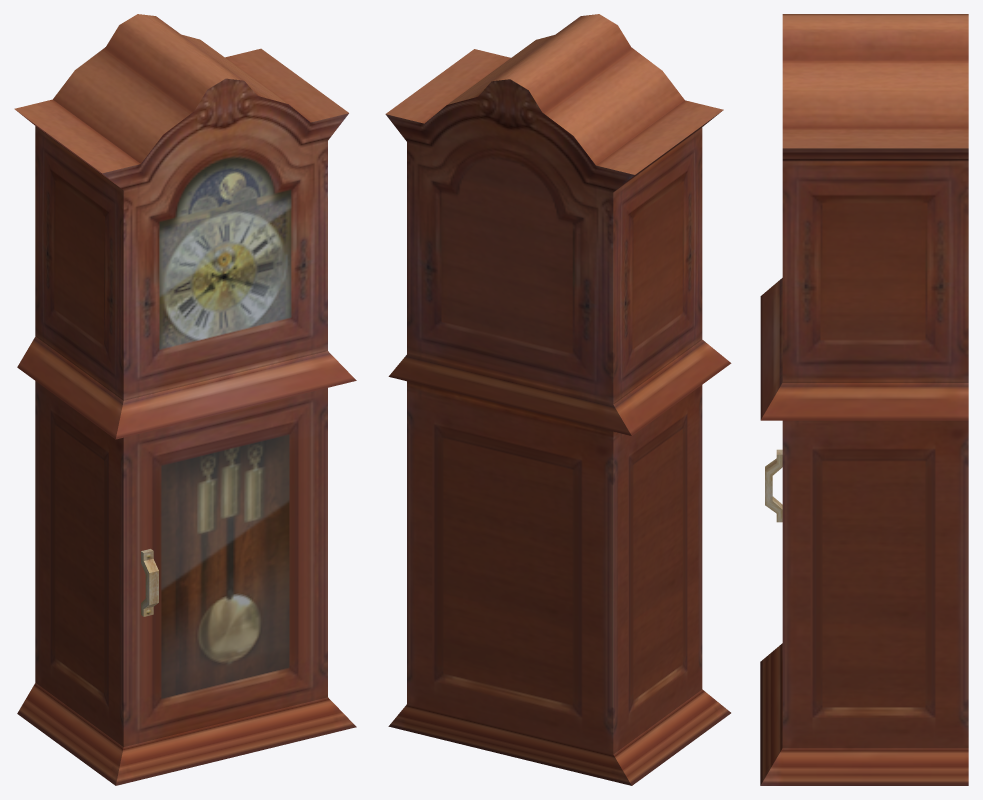
The model's file is clock.fbx.
3 views of the same model, side by side, from view 1: azimuth 30°, elevation 25°; view 2: azimuth 150°, elevation 25°; view 3: azimuth 270°, elevation 25° (orthographic). The views are drawn at different scales.
Parts seen in each view (by area): view 1: clock; view 2: clock; view 3: clock.
Part boxes in pixels (x1,y1,x2,y2): clock: (14,14,356,785); clock: (385,14,731,785); clock: (760,14,968,785).
Bounding box in the file's own units: 48.54 × 126 × 33.57.
